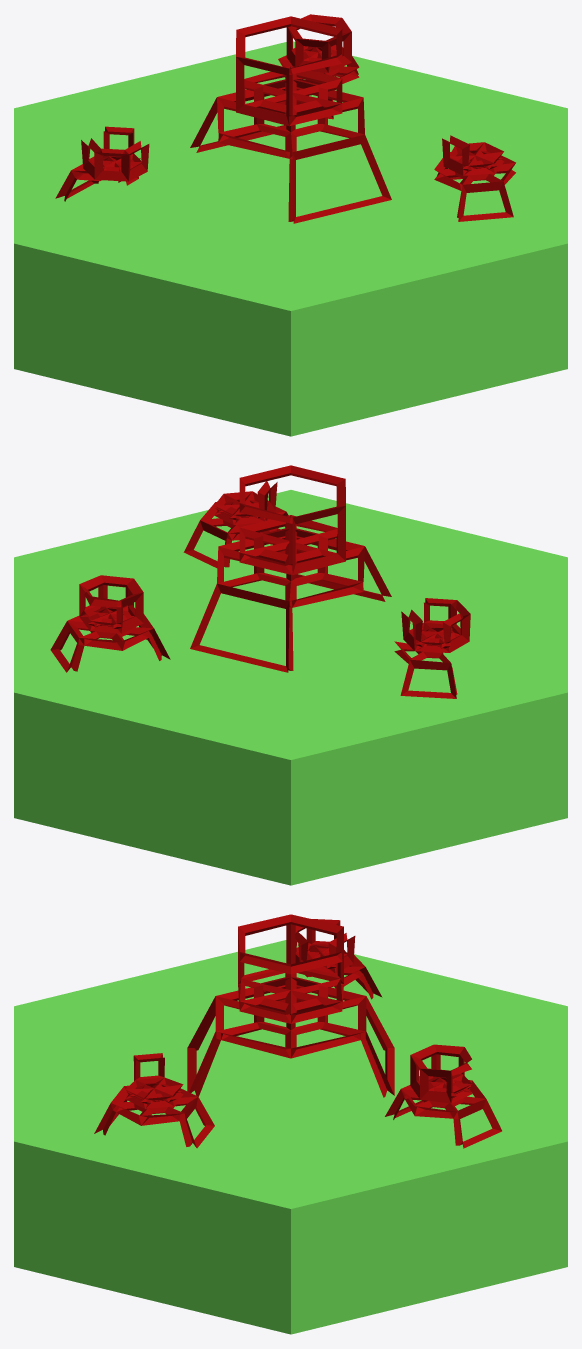
The model's file is lookoutUC.glb.
The picture shows the model from 3 angles, top to bottom: view 1: azimuth 30°, elevation 25°; view 2: azimuth 150°, elevation 25°; view 3: azimuth 270°, elevation 25°; orthographic projection.
Parts seen in each view (by area): view 1: BaseHex.008; view 2: BaseHex.008; view 3: BaseHex.008.
Boxes of the visible parts, left/top/right/bottom form: BaseHex.008: left=14, top=14, right=567, bottom=436; BaseHex.008: left=14, top=465, right=567, bottom=885; BaseHex.008: left=14, top=914, right=567, bottom=1334.
Bounding box in the file's own units: 1.15 × 0.518 × 1.
